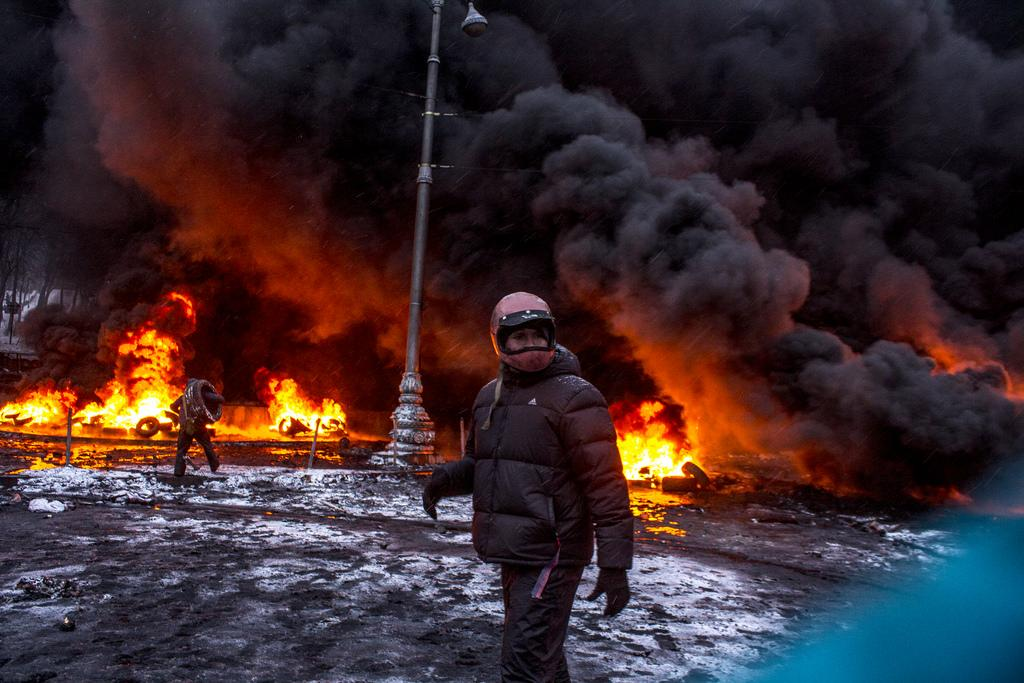fire: (125, 370, 167, 430), (627, 450, 675, 485), (13, 398, 70, 425), (287, 408, 320, 433)
smoke: (768, 25, 1015, 195), (493, 132, 755, 252), (153, 33, 417, 133), (862, 367, 973, 472)
